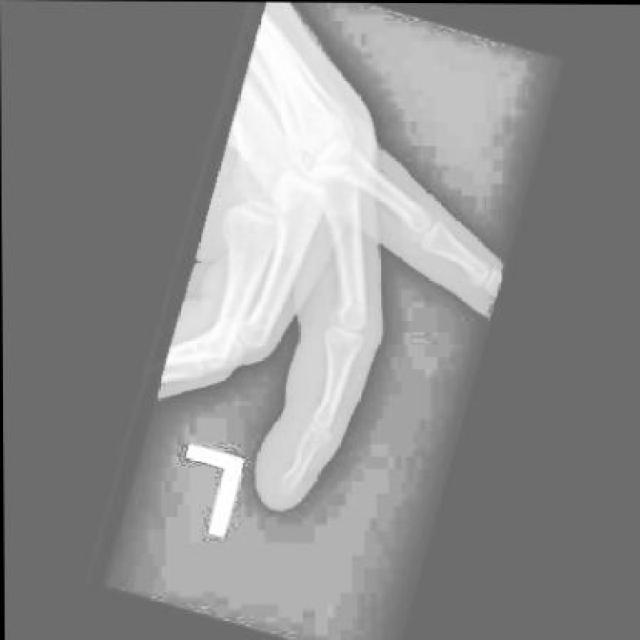Fracture: (293, 425, 333, 467)
